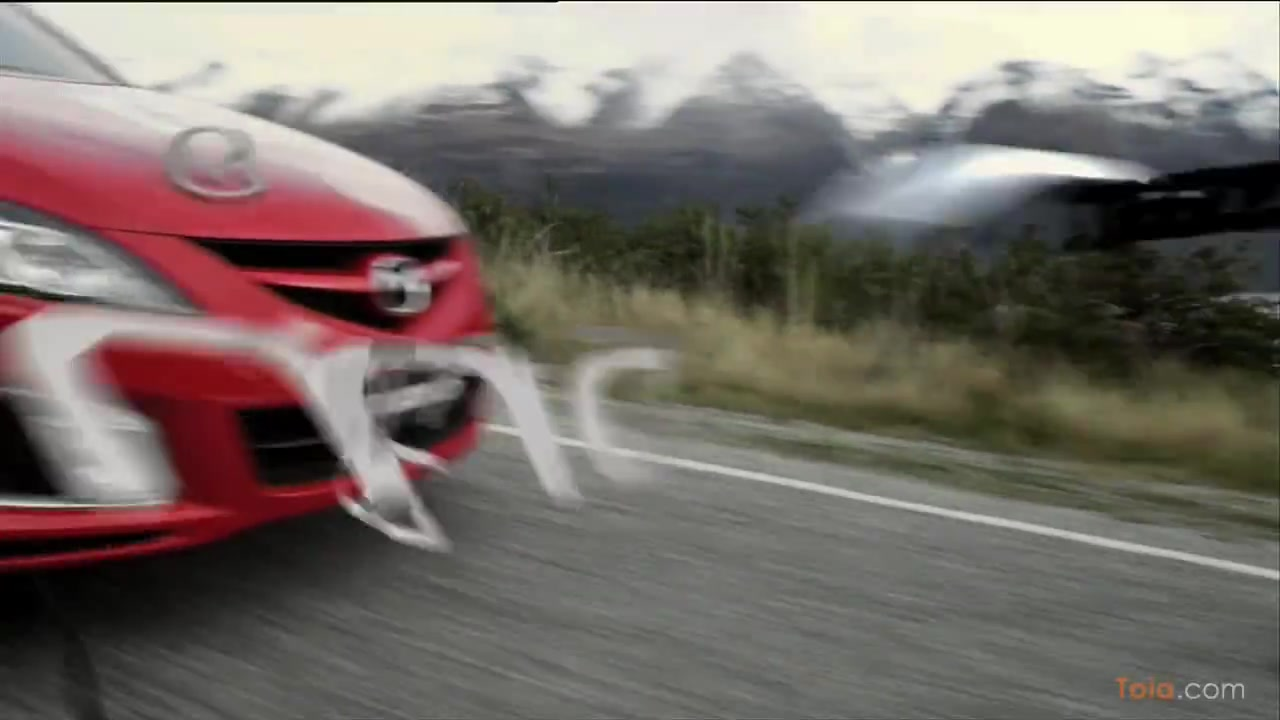car: (1, 5, 495, 578)
